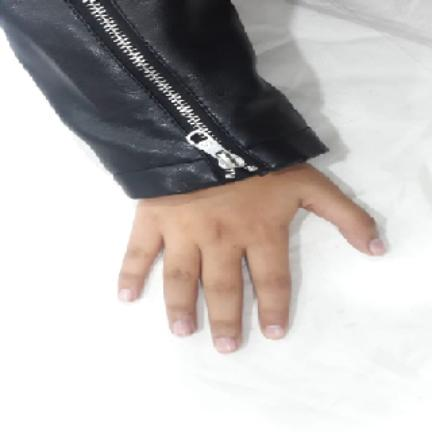Nail: (170, 319, 195, 336), (213, 338, 238, 354), (262, 325, 286, 339), (369, 239, 386, 256), (118, 289, 135, 302)
